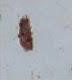Corrosion: (17, 14, 34, 52)
